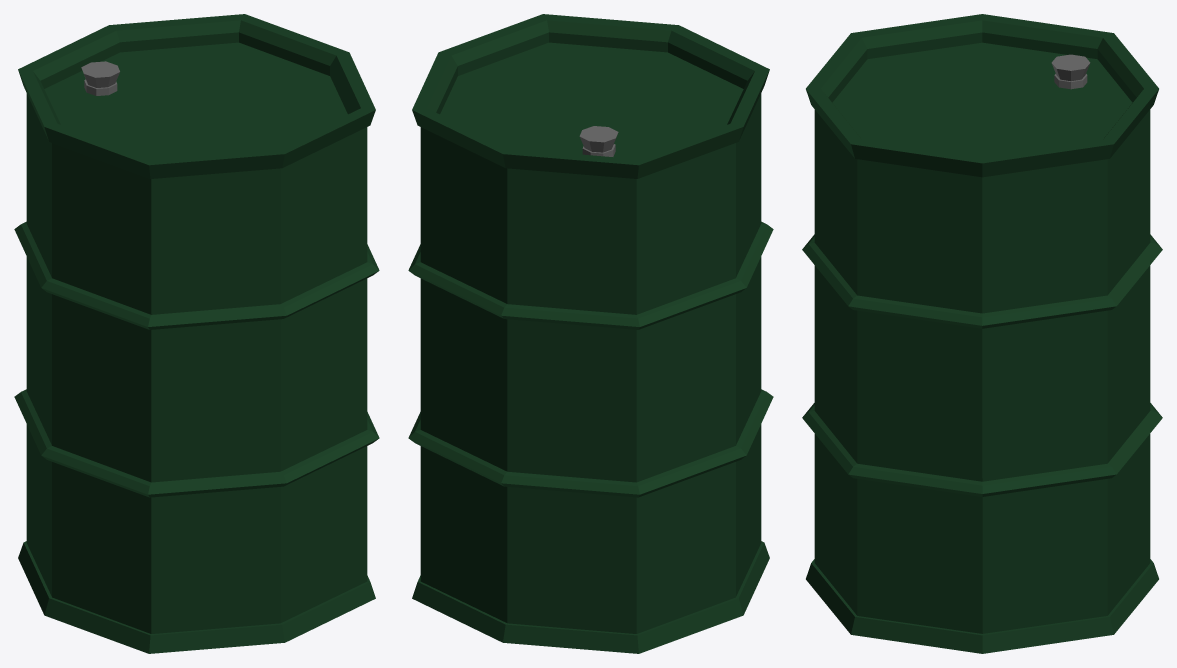
File: Barril_A02.fbx
The picture shows the model from 3 angles, left to right: view 1: azimuth 30°, elevation 25°; view 2: azimuth 150°, elevation 25°; view 3: azimuth 270°, elevation 25°; orthographic projection.
Visible parts, largest first — view 1: Plano, Plano.001; view 2: Plano, Plano.001; view 3: Plano, Plano.001.
Part boxes in pixels (x1,y1,x2,y2): Plano: [14, 14, 379, 653]; Plano.001: [81, 61, 119, 95]; Plano: [408, 14, 773, 653]; Plano.001: [579, 126, 618, 156]; Plano: [802, 14, 1162, 653]; Plano.001: [1051, 54, 1090, 89].
Size of the model in its own units: 28.52 by 42.82 by 28.52.
